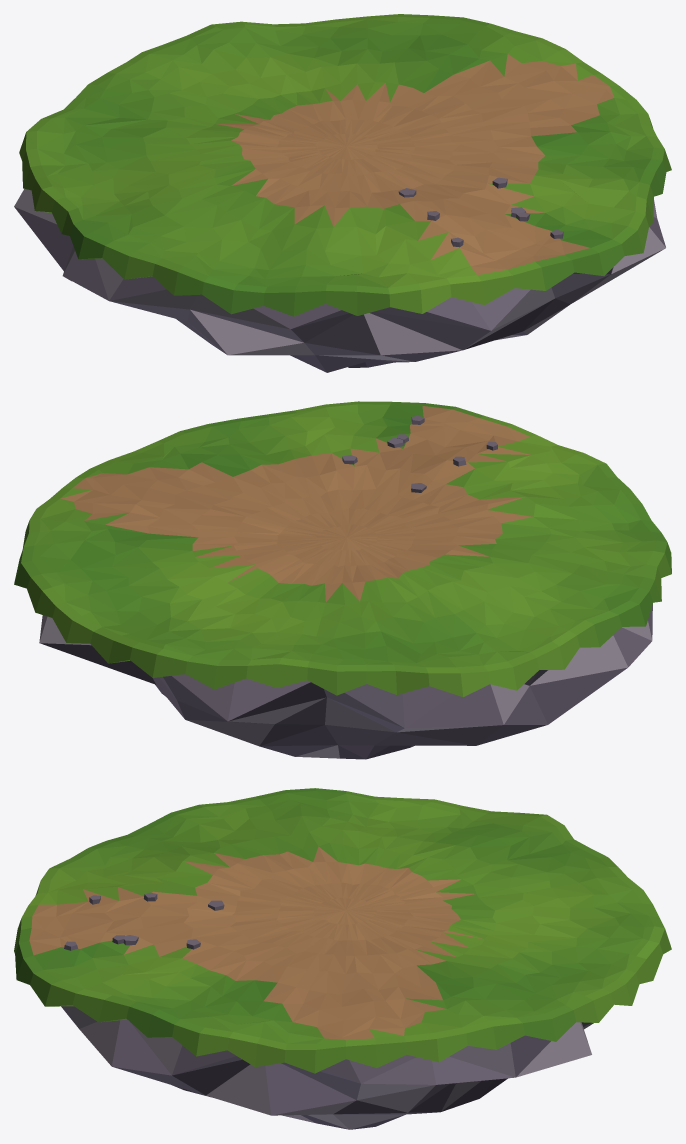
Rendered from island__a.glb.
3 renders of one model, top to bottom at view 1: azimuth 30°, elevation 25°; view 2: azimuth 150°, elevation 25°; view 3: azimuth 270°, elevation 25°, orthographic. The views are drawn at different scales.
Parts seen in each view (by area): view 1: turf, crag, edge_stones; view 2: turf, crag, edge_stones; view 3: turf, crag, edge_stones.
Part boxes in pixels (left/top/right/bottom): turf: left=19, top=14, right=671, bottom=316; crag: left=14, top=189, right=665, bottom=372; edge_stones: left=398, top=177, right=563, bottom=247; turf: left=14, top=401, right=671, bottom=697; crag: left=39, top=604, right=652, bottom=759; edge_stones: left=342, top=415, right=497, bottom=492; turf: left=14, top=788, right=671, bottom=1073; crag: left=61, top=1006, right=593, bottom=1129; edge_stones: left=64, top=892, right=224, bottom=950.
Size of the model in its own units: 10.02 by 3.75 by 10.35.
